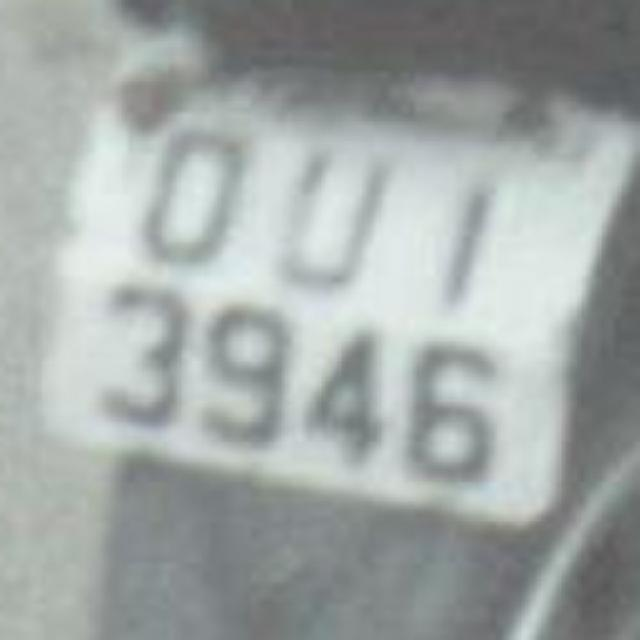3: (71, 256, 204, 444)
4: (288, 291, 412, 484)
6: (384, 320, 516, 512)
9: (172, 272, 308, 456)
O: (128, 100, 264, 275)
U: (240, 120, 415, 305)
